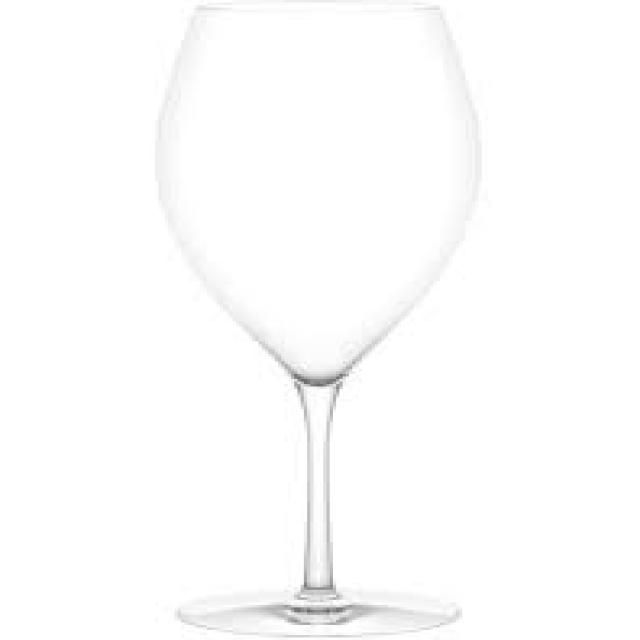glass: (148, 0, 478, 637)
